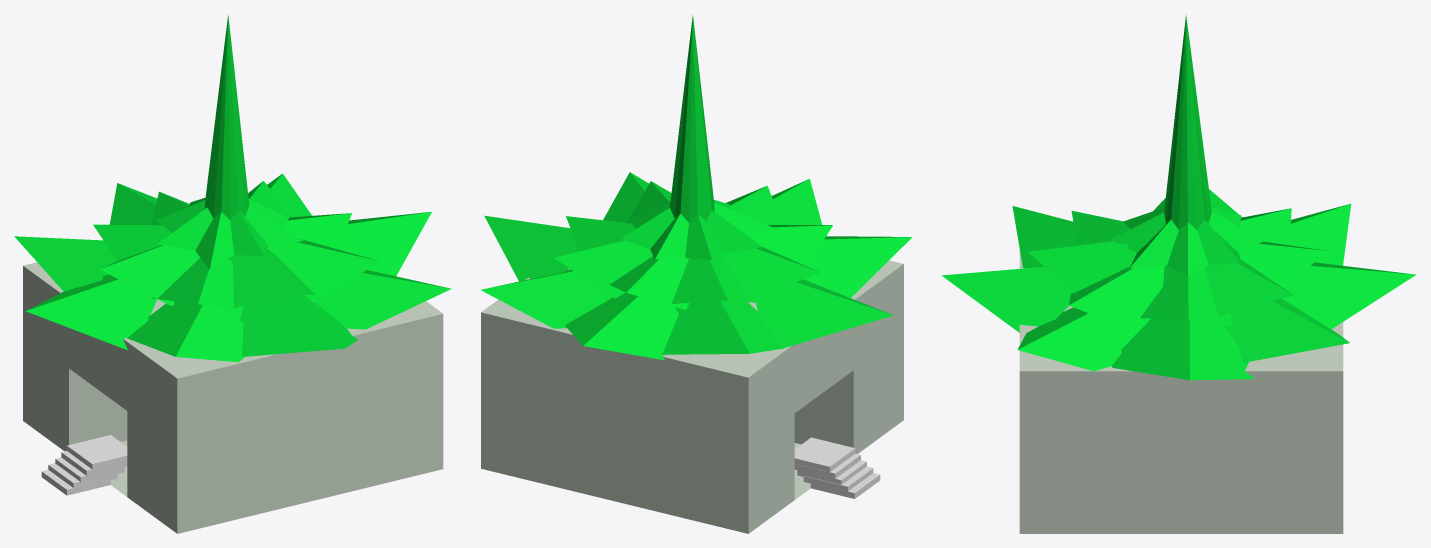
Rendered from Masjid_DPR.fbx.
The picture shows the model from 3 angles, left to right: view 1: azimuth 30°, elevation 25°; view 2: azimuth 150°, elevation 25°; view 3: azimuth 270°, elevation 25°; orthographic projection. The views are drawn at different scales.
Visible parts, largest first — view 1: Cube, Cone, Cube.001; view 2: Cube, Cone, Cube.001; view 3: Cone, Cube.
Boxes of the visible parts, <box> form: Cube: <box>23,247,443,533</box>; Cone: <box>14,15,451,362</box>; Cube.001: <box>41,435,127,495</box>; Cube: <box>481,260,903,533</box>; Cone: <box>481,15,912,360</box>; Cube.001: <box>794,437,880,498</box>; Cone: <box>941,14,1415,380</box>; Cube: <box>1019,250,1343,533</box>.
Bounding box in the file's own units: 1429 × 1444 × 1380.
